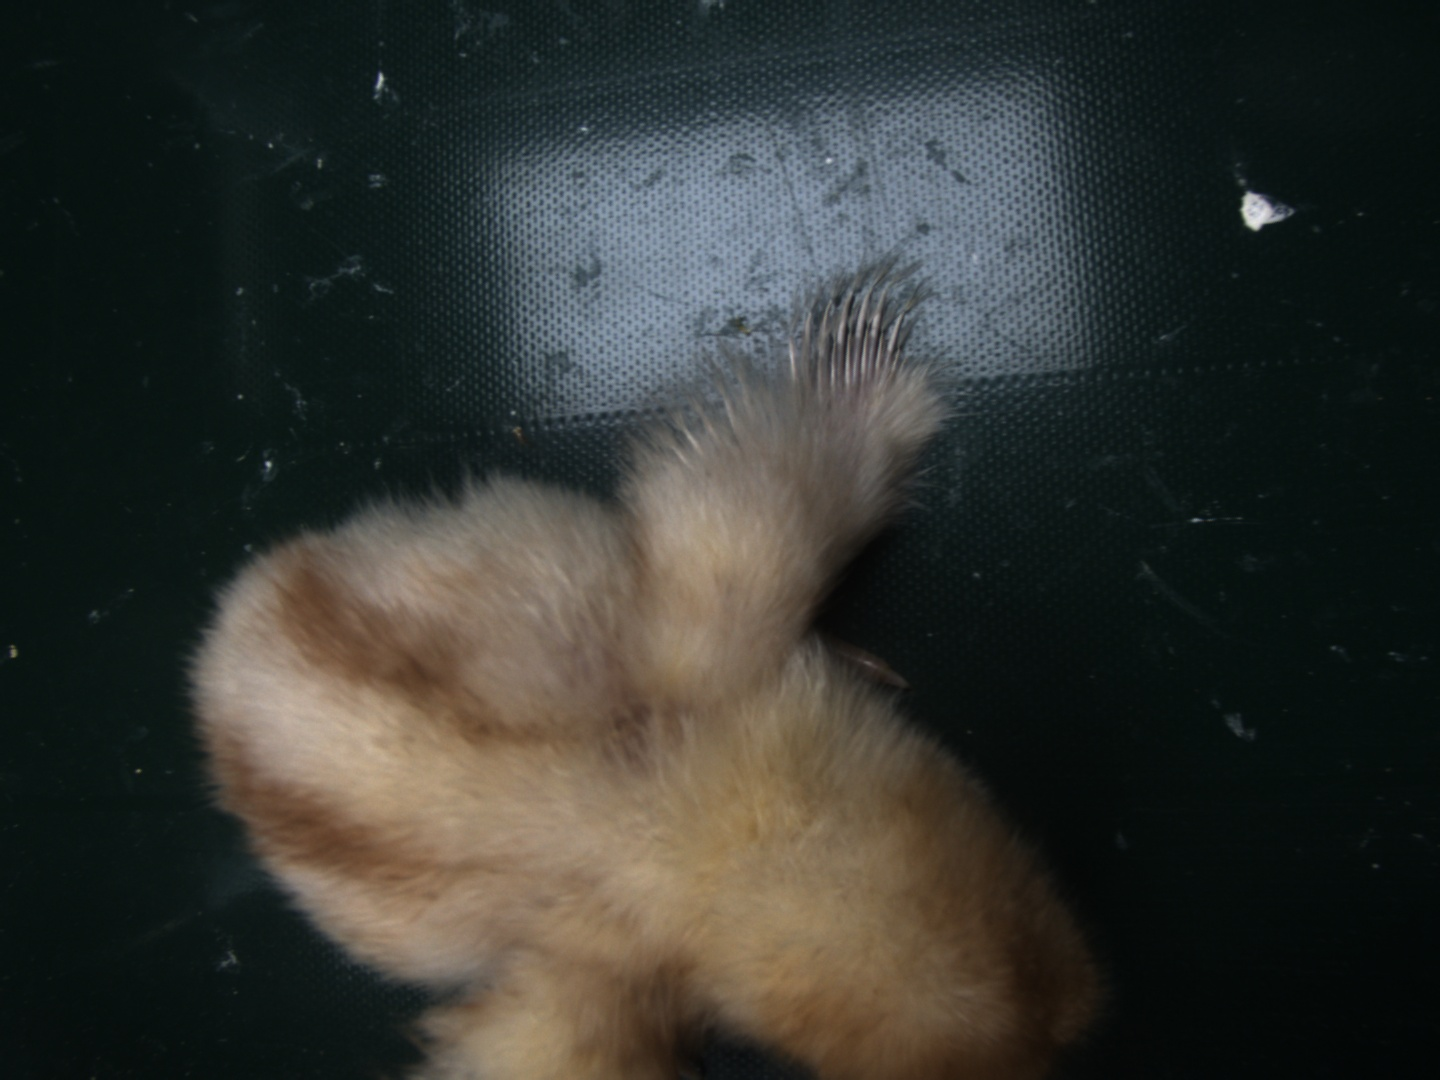female: (782, 288, 912, 405)
